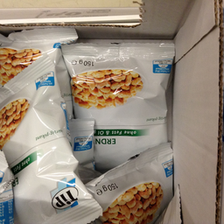nuts: (1, 58, 103, 224), (61, 38, 176, 170), (77, 143, 174, 224)
